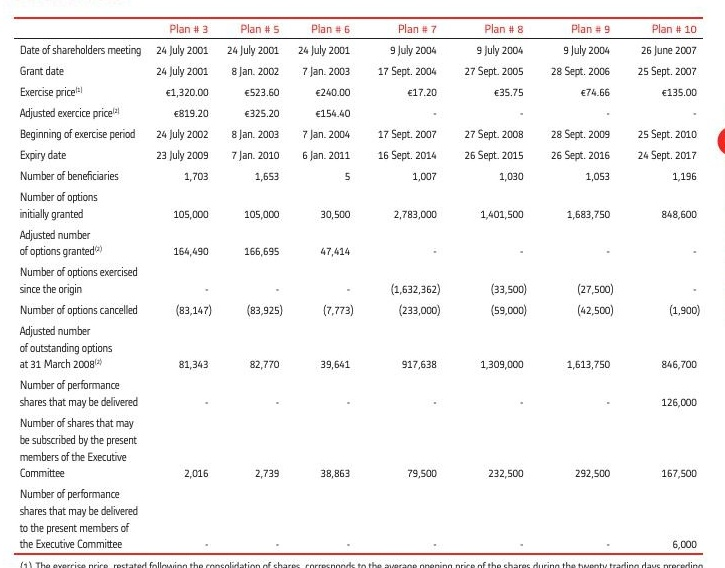table: (0, 0, 725, 568)
